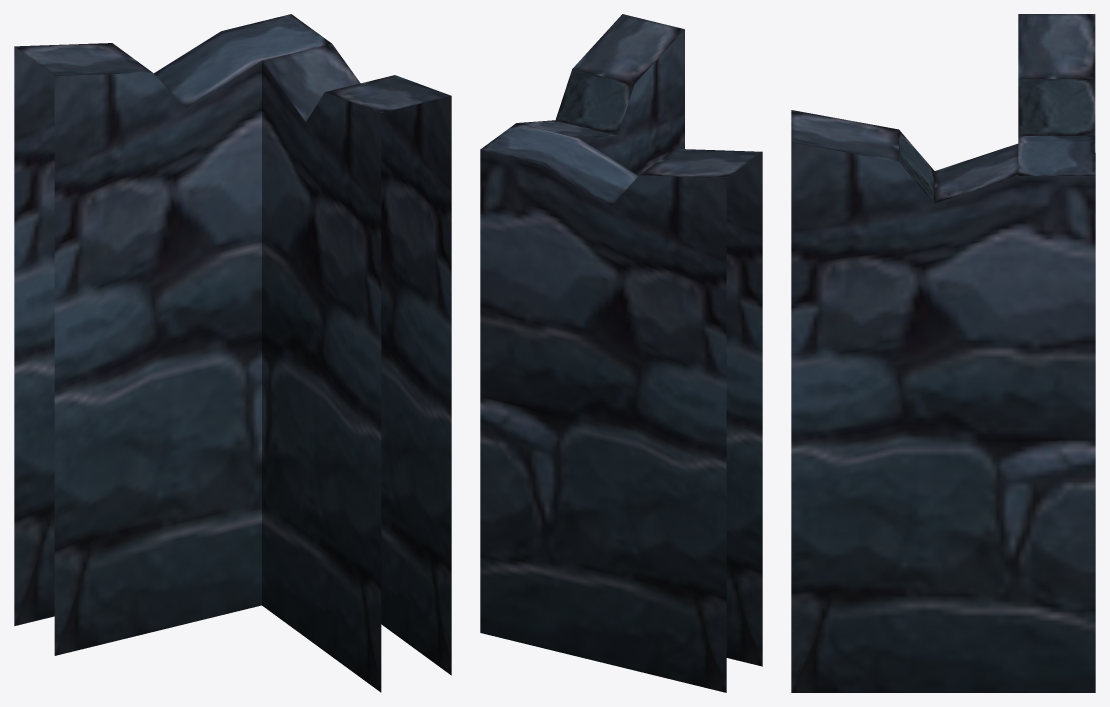
File: LowWall_Corner_A.fbx
3 views of the same model, side by side, from view 1: azimuth 30°, elevation 25°; view 2: azimuth 150°, elevation 25°; view 3: azimuth 270°, elevation 25° (orthographic). The views are drawn at different scales.
Parts seen in each view (by area): view 1: LowWall_Corner_A; view 2: LowWall_Corner_A; view 3: LowWall_Corner_A.
Part boxes in pixels (box(x1,y1,x2,y2)): LowWall_Corner_A: box(14, 14, 451, 692); LowWall_Corner_A: box(480, 14, 762, 692); LowWall_Corner_A: box(791, 14, 1095, 692).
Bounding box in the file's own units: 30.42 × 60.77 × 30.43.
Materials: 1 (1 with a texture image).
